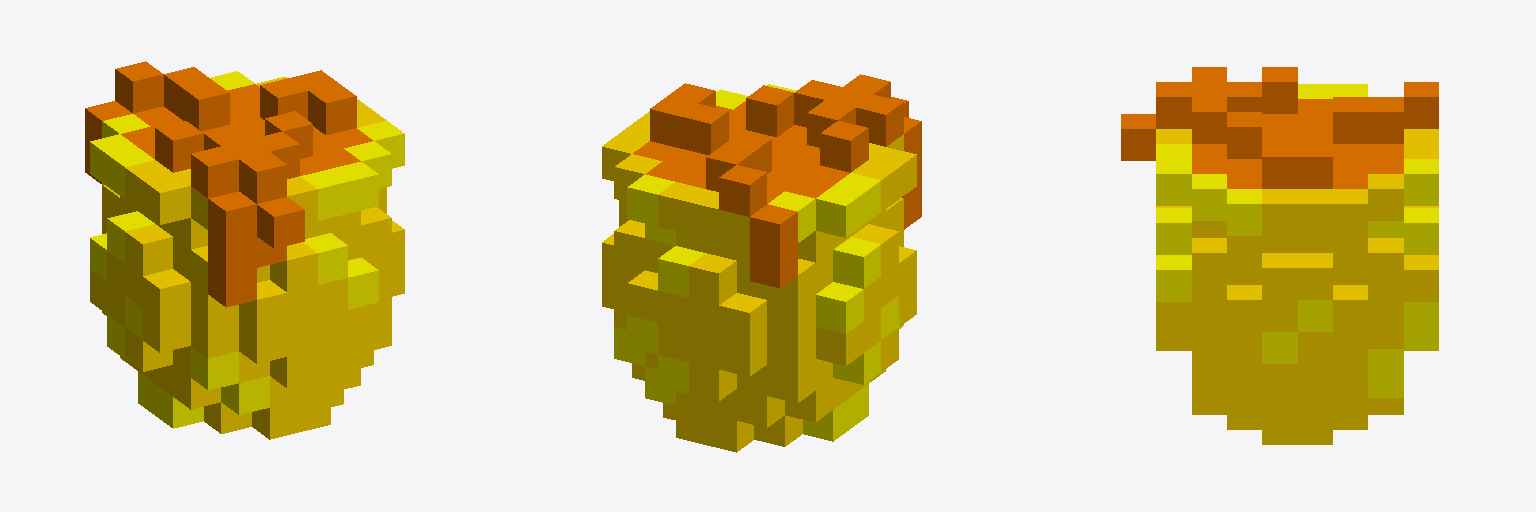
The picture shows the model from 3 angles: view 1: azimuth 30°, elevation 25°; view 2: azimuth 150°, elevation 25°; view 3: azimuth 270°, elevation 25°; orthographic projection.
Size of the model in its own units: 8 by 9 by 9.
Materials: 1 (1 with a texture image).